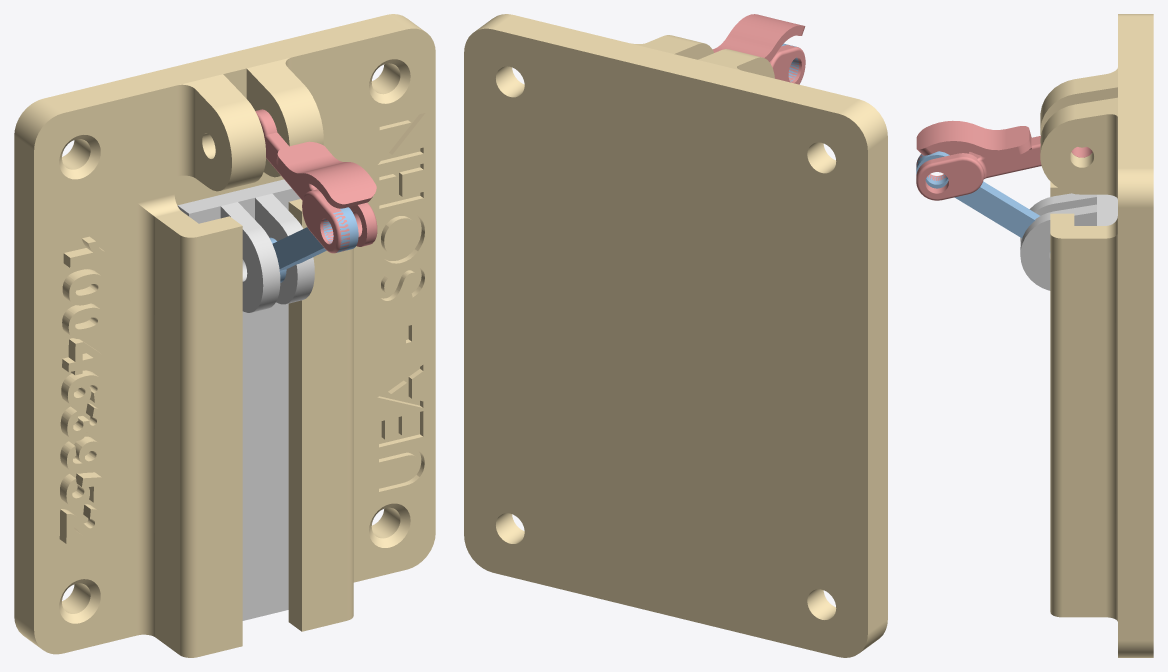
The model's file is doorlock.glb.
3 views of the same model, side by side, from view 1: azimuth 30°, elevation 25°; view 2: azimuth 150°, elevation 25°; view 3: azimuth 270°, elevation 25° (orthographic). The views are drawn at different scales.
Visible parts, largest first — view 1: Body1, Body1_1, Body1_3, Body1_2; view 2: Body1, Body1_3; view 3: Body1, Body1_3, Body1_1, Body1_2.
Part boxes in pixels (x1=…): Body1: x1=14, y1=14, x2=435, y2=657; Body1_1: x1=177, y1=179, x2=314, y2=620; Body1_3: x1=255, y1=109, x2=377, y2=253; Body1_2: x1=269, y1=207, x2=358, y2=282; Body1: x1=464, y1=14, x2=887, y2=657; Body1_3: x1=712, y1=14, x2=805, y2=84; Body1: x1=1040, y1=14, x2=1153, y2=657; Body1_3: x1=916, y1=120, x2=1092, y2=200; Body1_1: x1=1020, y1=193, x2=1117, y2=290; Body1_2: x1=916, y1=151, x2=1050, y2=252.
Bounding box in the file's own units: 70 × 90 × 39.78.
